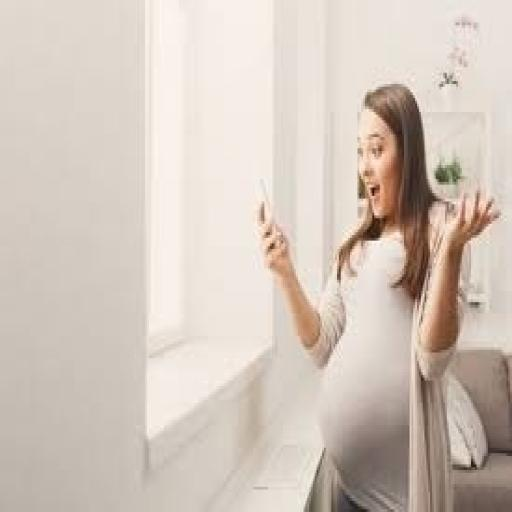texting: (251, 78, 501, 510)
